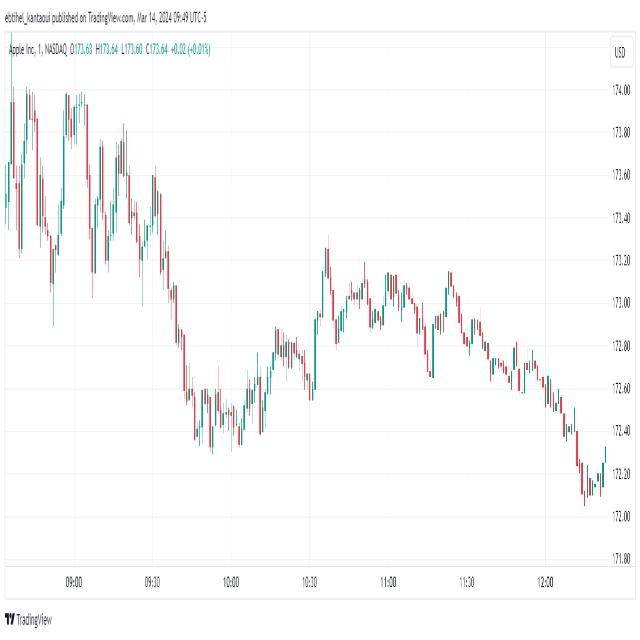Triple-Bottom: (182, 376, 276, 454)
